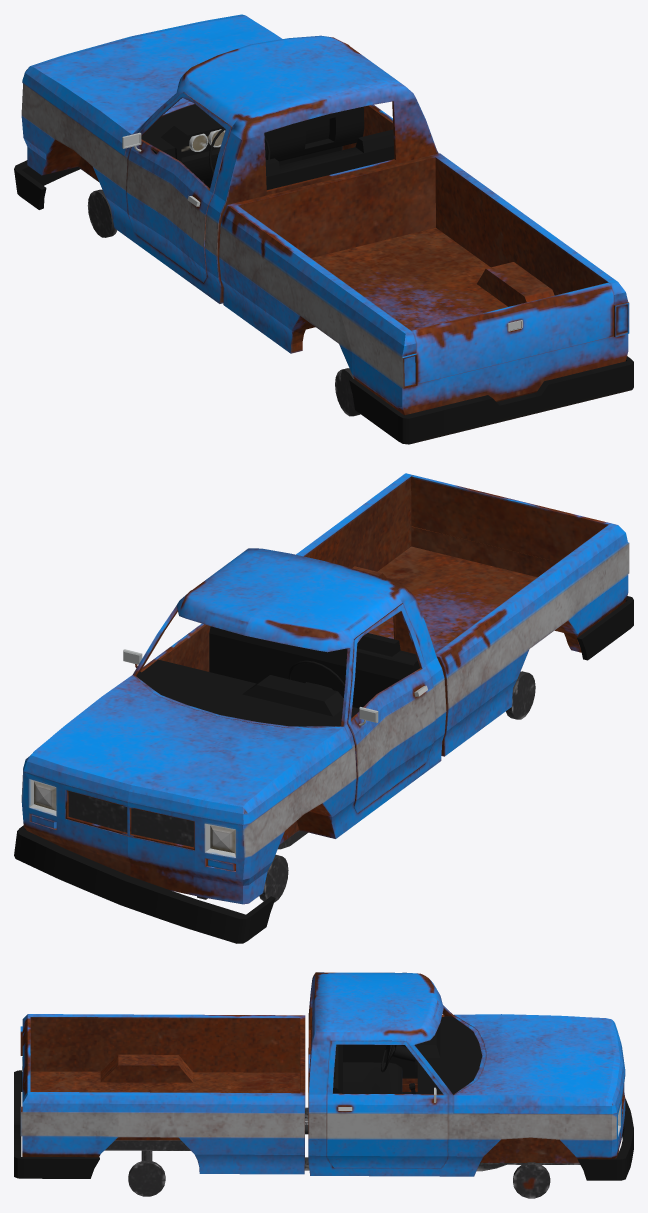
3 renders of one model, top to bottom at view 1: azimuth 30°, elevation 25°; view 2: azimuth 150°, elevation 25°; view 3: azimuth 270°, elevation 25°, orthographic. The views are drawn at different scales.
Visible parts, largest first — view 1: frame_Material #25_0, hood_Material #25_0, bagazhnik_Material #25_0, doorL_Material #25_0, doorR_Material #25_0; view 2: frame_Material #25_0, hood_Material #25_0, bagazhnik_Material #25_0, doorL_Material #25_0, doorR_Material #25_0; view 3: frame_Material #25_0, hood_Material #25_0, doorR_Material #25_0, doorL_Material #25_0, bagazhnik_Material #25_0.
Part boxes in pixels (box(x1,y1,x2,y2)): frame_Material #25_0: box(14, 35, 633, 444); hood_Material #25_0: box(22, 14, 282, 156); bagazhnik_Material #25_0: box(411, 282, 613, 383); doorL_Material #25_0: box(122, 93, 231, 282); doorR_Material #25_0: box(348, 104, 393, 148); frame_Material #25_0: box(14, 473, 633, 943); hood_Material #25_0: box(23, 675, 352, 824); bagazhnik_Material #25_0: box(411, 475, 610, 561); doorL_Material #25_0: box(347, 603, 435, 813); doorR_Material #25_0: box(123, 610, 210, 672); frame_Material #25_0: box(14, 972, 633, 1198); hood_Material #25_0: box(453, 1014, 625, 1114); doorR_Material #25_0: box(326, 1040, 448, 1168); doorL_Material #25_0: box(343, 1011, 447, 1084); bagazhnik_Material #25_0: box(22, 1016, 30, 1098).
Bounding box in the file's own units: 2.16 × 1.76 × 5.87.
1 material, 1 textured.
